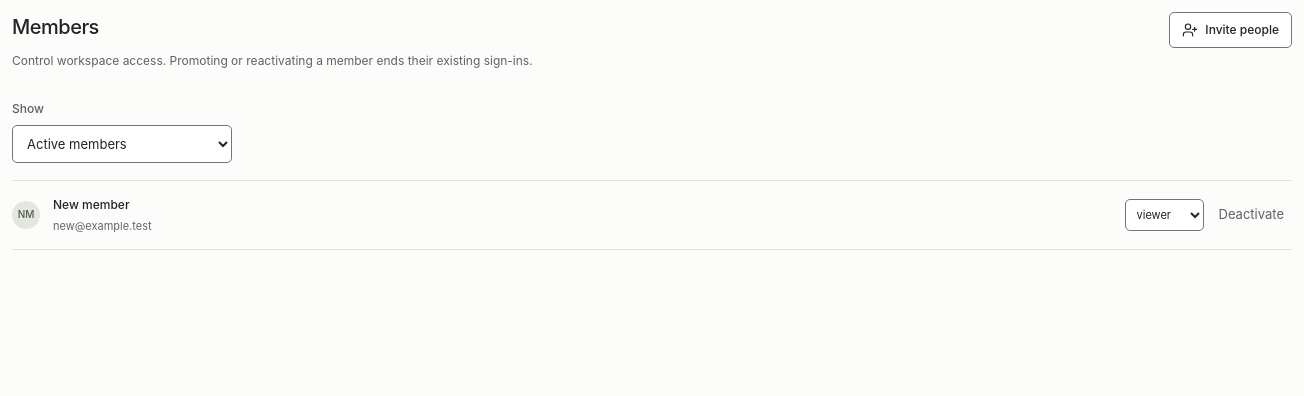
it: keeps a rejected member role change and requires a deliberate conflict reload
Select "viewer" in the 2nd dropdown at (1164, 215), box [1124,199,1204,231]
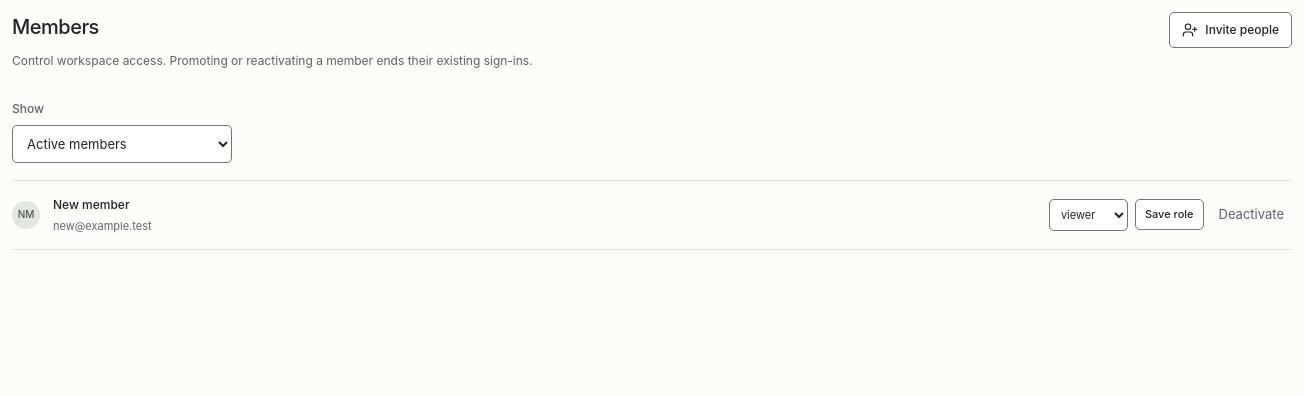
Click the button "Save role" at (1169, 215), box [1135,199,1204,230]
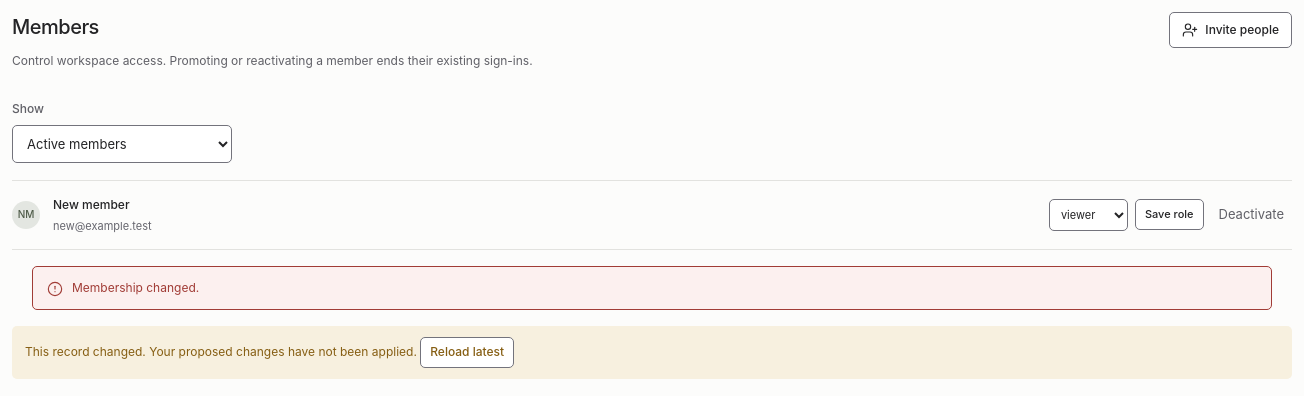
Expected: the text "Your proposed changes have not been applied" is shown, [25,344,420,359]
